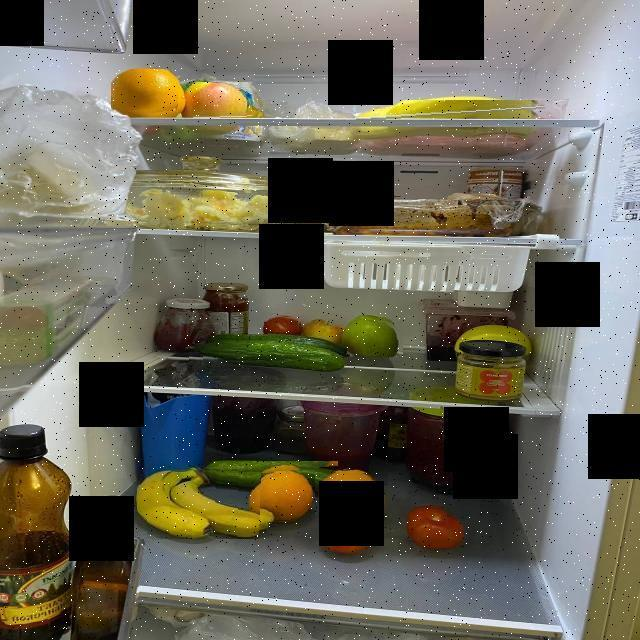apple: (178, 82, 252, 119), (338, 316, 403, 357), (302, 320, 346, 345)
banana: (138, 467, 262, 539), (348, 100, 546, 122), (272, 182, 338, 229), (302, 180, 388, 202)
cucumber: (200, 332, 351, 357), (182, 346, 346, 367), (208, 461, 338, 479)
orange: (112, 69, 182, 116), (253, 470, 315, 523), (314, 471, 388, 511), (276, 198, 306, 217)
tomato: (404, 504, 466, 548), (319, 511, 382, 552), (264, 315, 300, 337)
